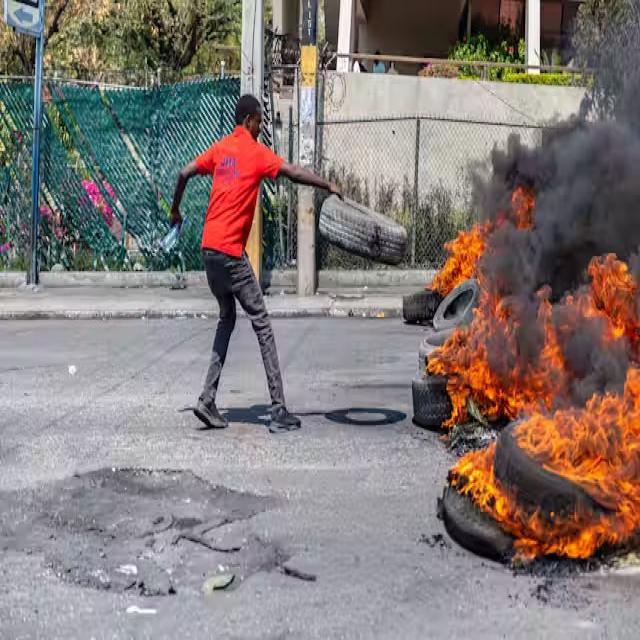fire: (448, 367, 640, 562), (422, 295, 570, 426), (425, 186, 536, 296), (571, 253, 640, 363)
